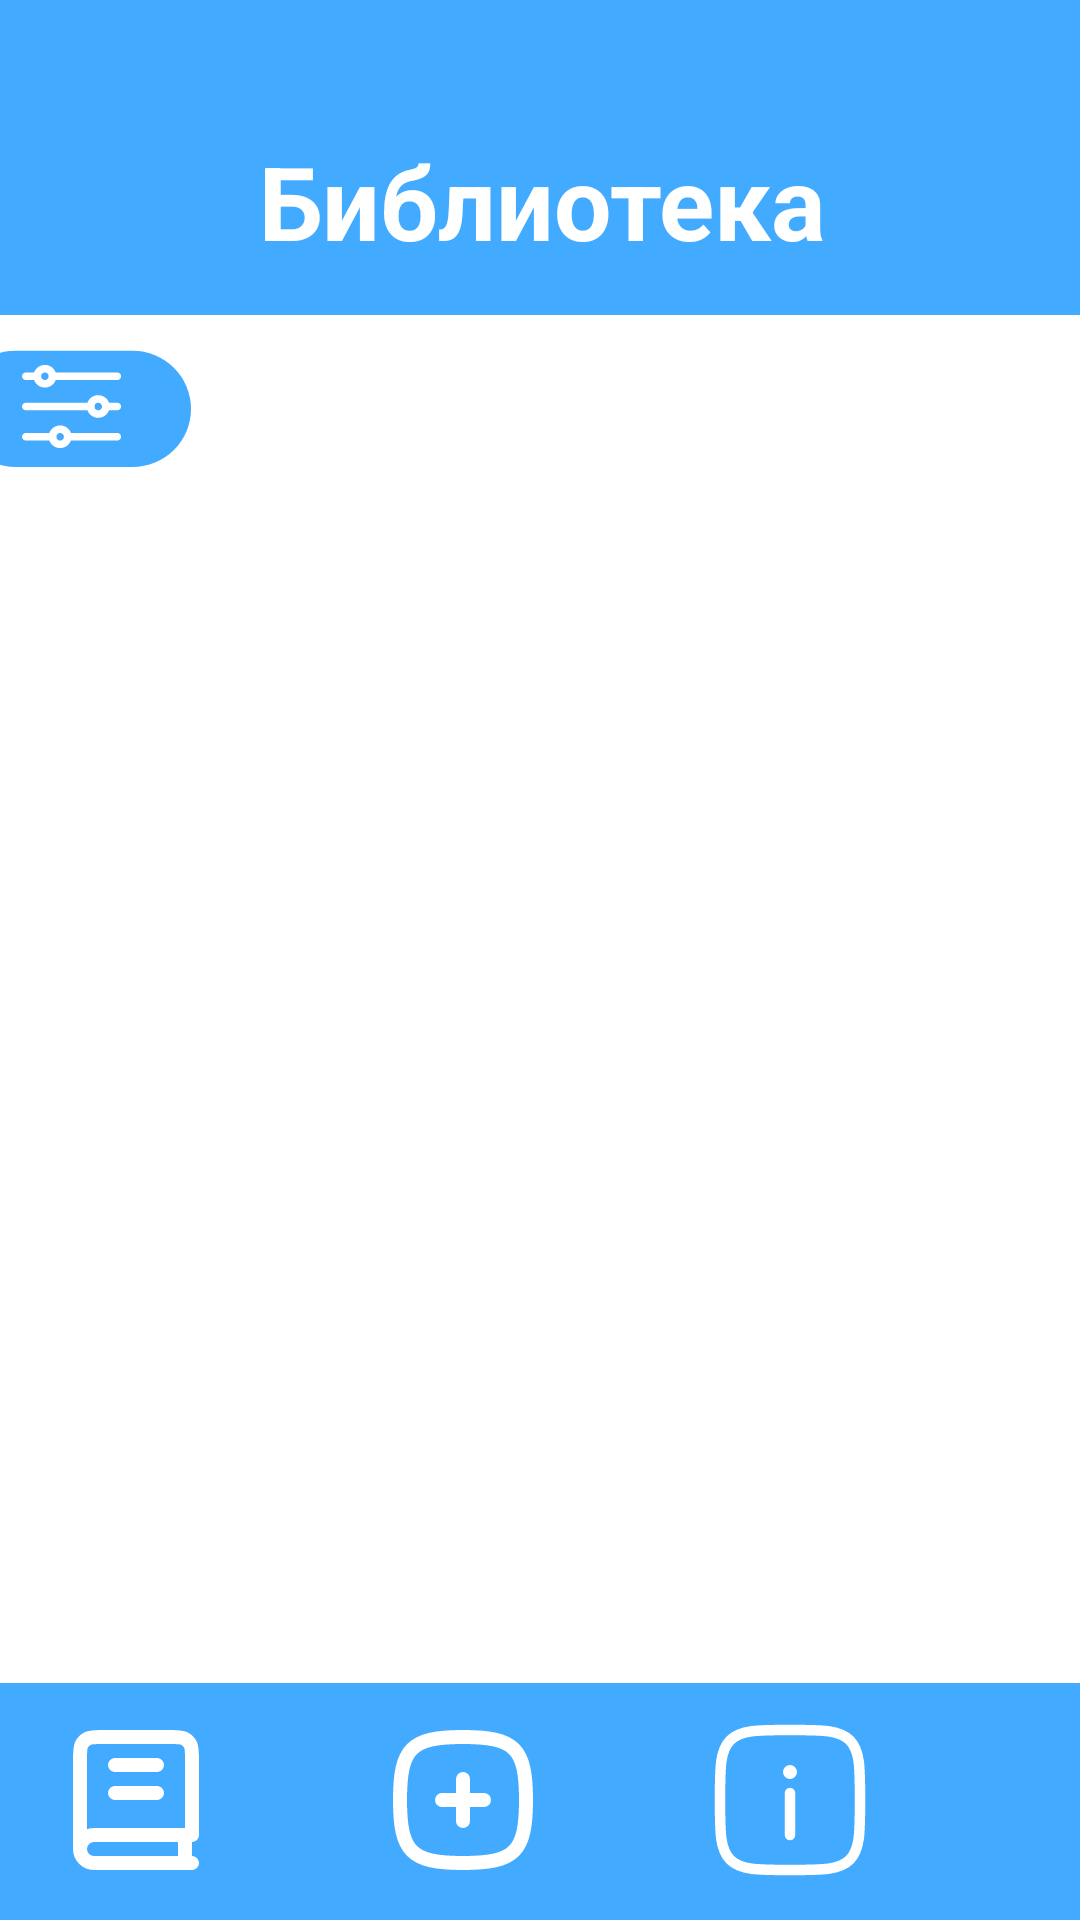

Icon bounding boxes for this 1080 × 1920 phone screenshot, format bbox=(x1, y1, x2, y2):
book: bbox=(73, 1730, 199, 1870)
info square: bbox=(714, 1724, 866, 1876)
plus square: bbox=(393, 1730, 533, 1870)
